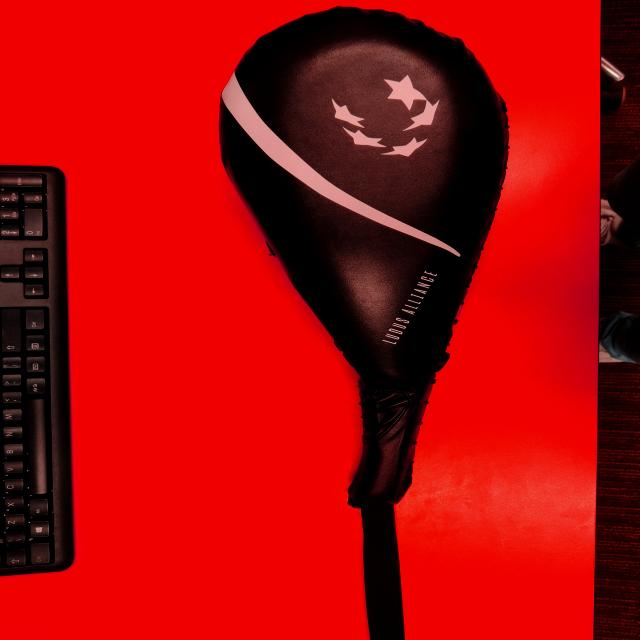paddle: (212, 4, 518, 514)
